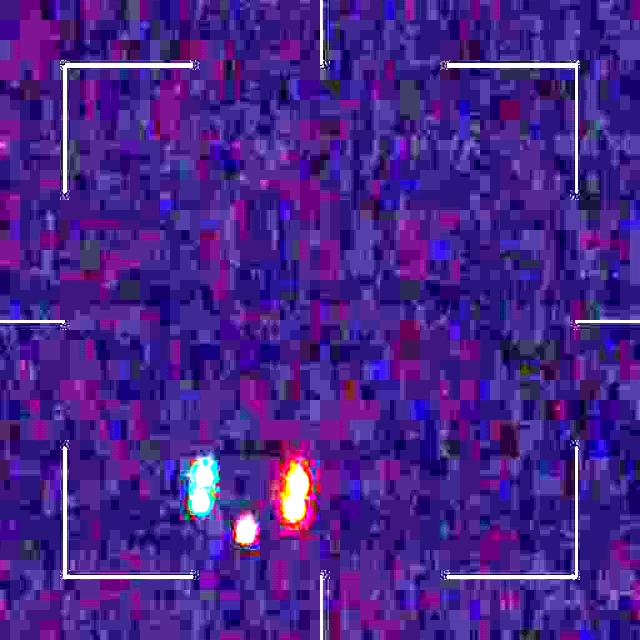bird: (191, 456, 309, 545)
